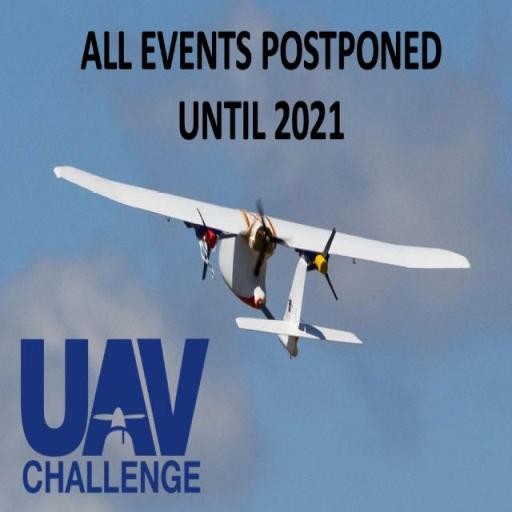uav: (50, 142, 488, 329)
